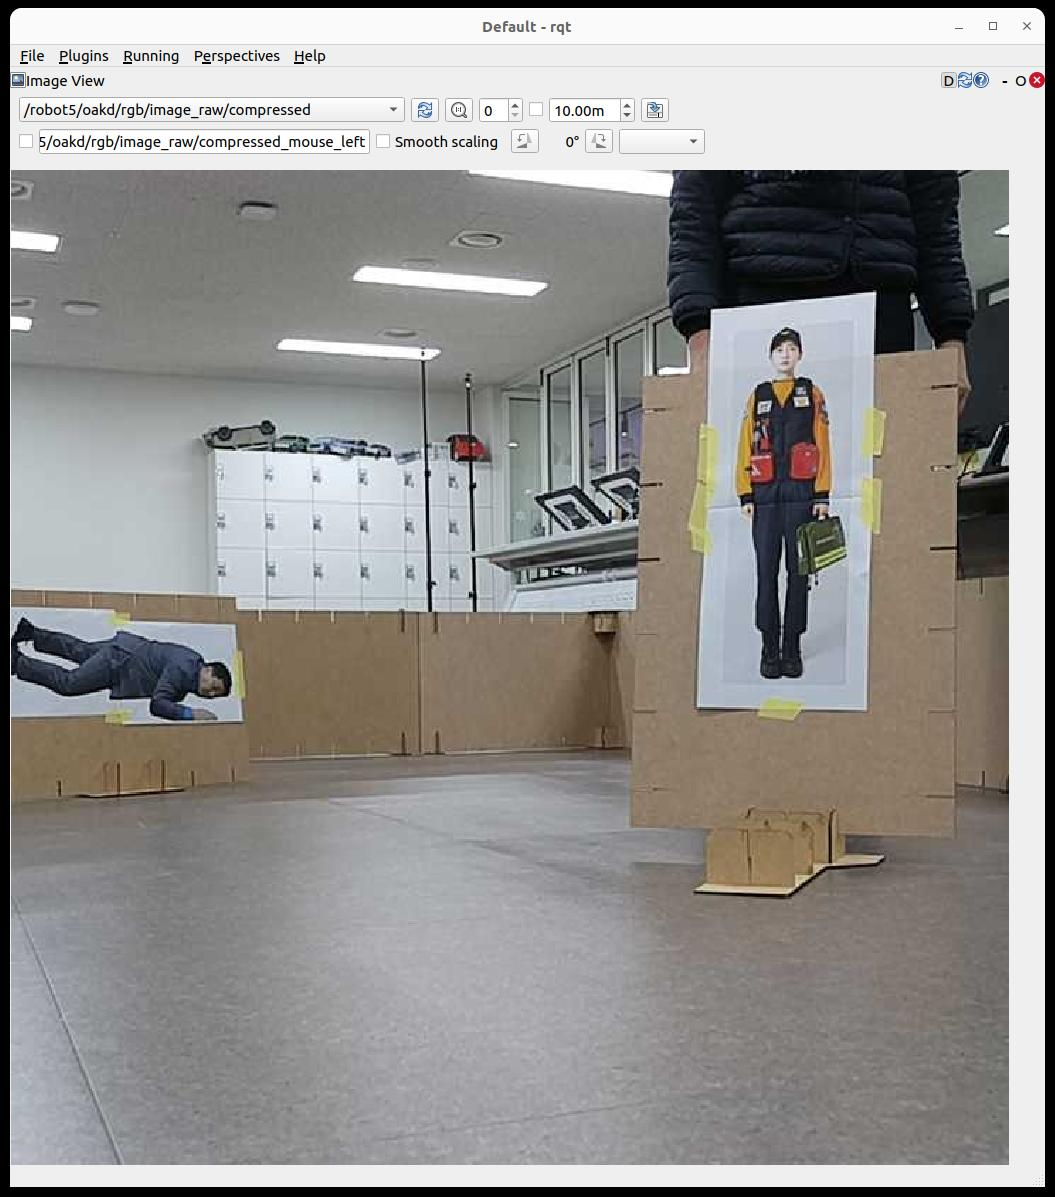Patient: (12, 618, 230, 721)
Responder: (736, 330, 830, 679)
